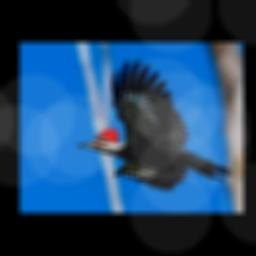Woodpecker: (77, 58, 234, 190)
